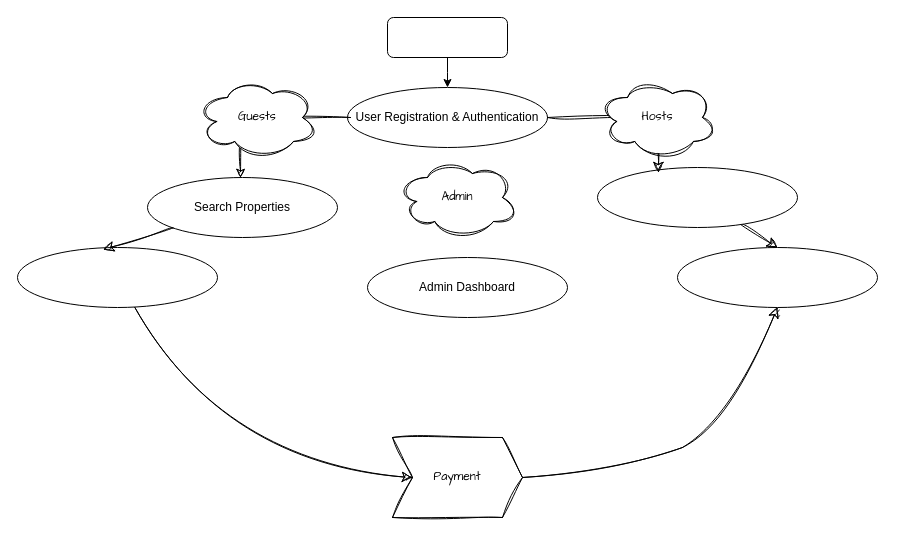
The diagram is 905 pixels wide and 535 high, and some of its shapes have lost their labels. Here are the shapes that lost their labels. From the top down, the box of each, then its label:
(386, 16, 508, 58): Users
(596, 166, 798, 228): List Property
(16, 246, 218, 308): Book Property
(676, 246, 878, 308): Rent property
